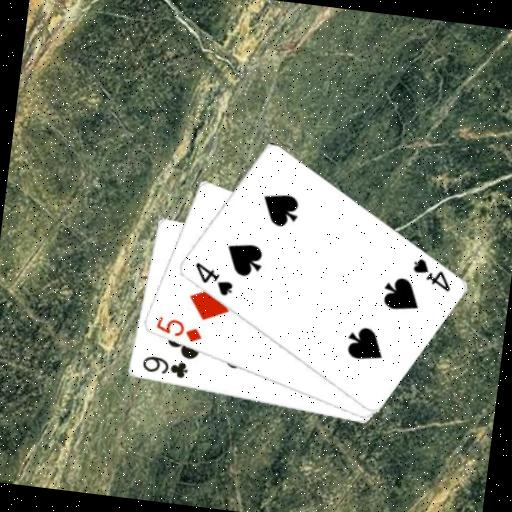4S: (189, 259, 237, 299), (407, 255, 455, 295)
5D: (152, 313, 205, 346)
9C: (138, 352, 191, 381)
